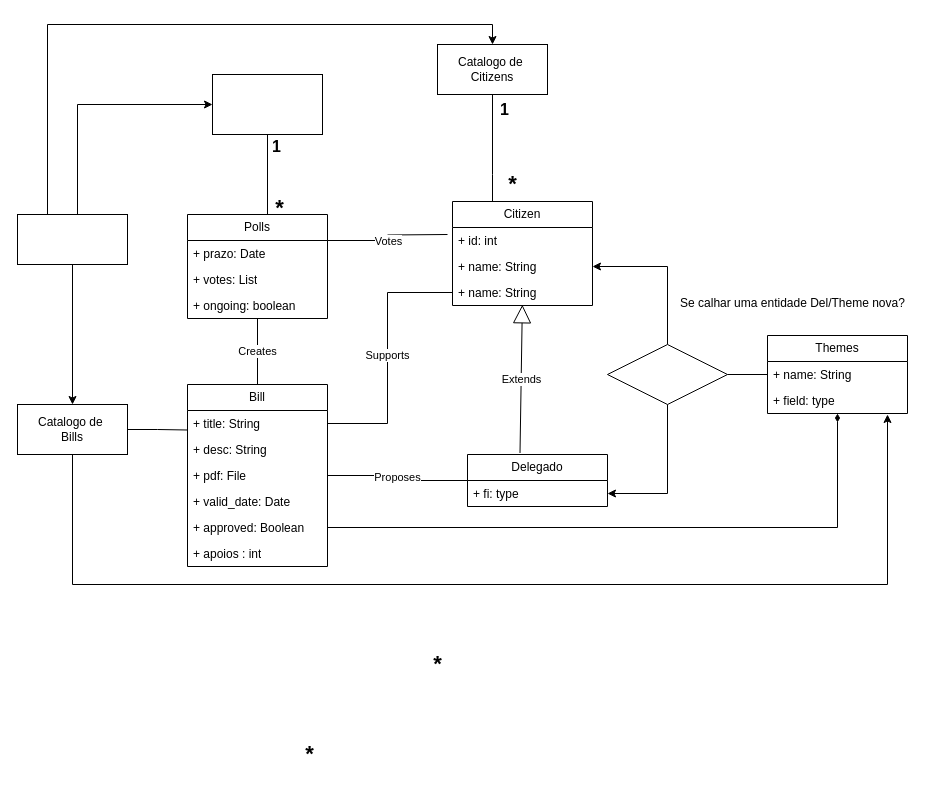
This 935x792 diagram has some shape labels left out. The shapes that lost their labels are listed below. From the top down, each one's centre as x and y in pixels, then its label:
point 267,104: Catalogo de Polls
point 72,239: Democracia 2.0
point 667,374: Chooses
